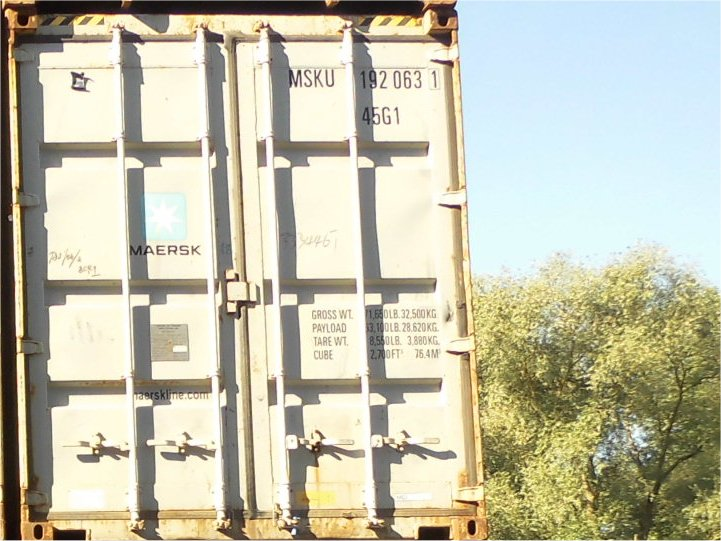container_door: (4, 8, 488, 541)
